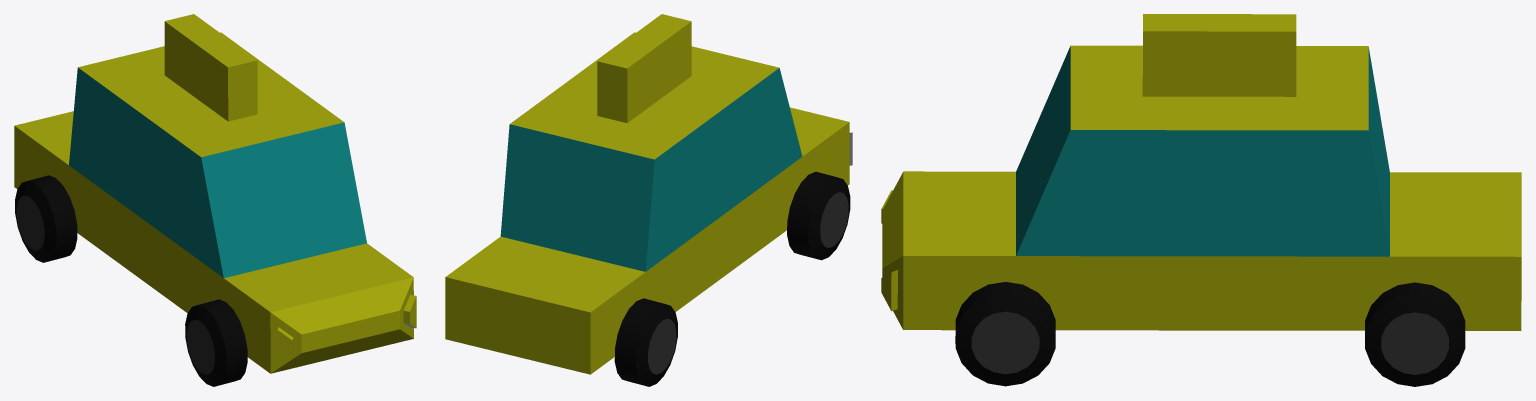
The model's file is carro2.fbx.
The picture shows the model from 3 angles, left to right: view 1: azimuth 30°, elevation 25°; view 2: azimuth 150°, elevation 25°; view 3: azimuth 270°, elevation 25°; orthographic projection. The views are drawn at different scales.
Parts seen in each view (by area): view 1: Player001; view 2: Player001; view 3: Player001.
Boxes of the visible parts, x1,y1,x2,y2 form: Player001: (14,14,416,386); Player001: (445,14,852,386); Player001: (881,14,1521,386).
Bounding box in the file's own units: 43.16 × 100 × 53.5.
